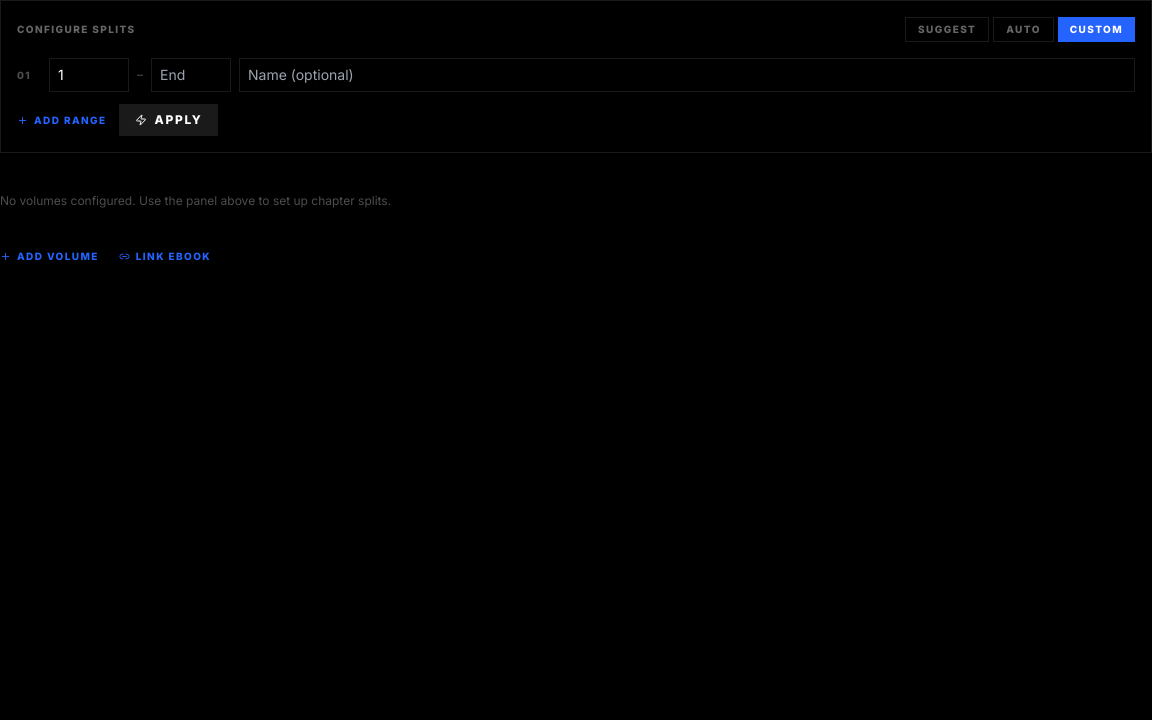
Test: Linking ebooks to a serial › opens the link dialog from the volume list
The width and height of the screenshot is (1152, 720).
Click the button with test id "link-ebook-button". click: click(165, 256)
box: [119,249,211,264]
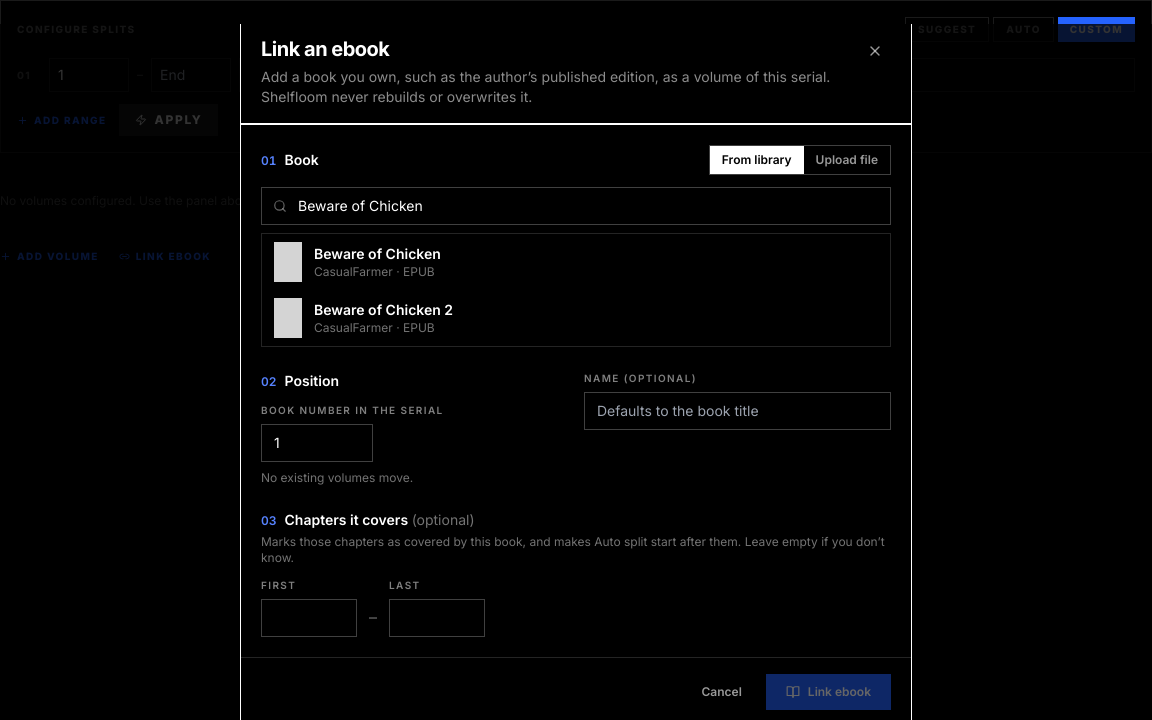
Expected: the dialog with test id "link-ebook-modal" is shown
